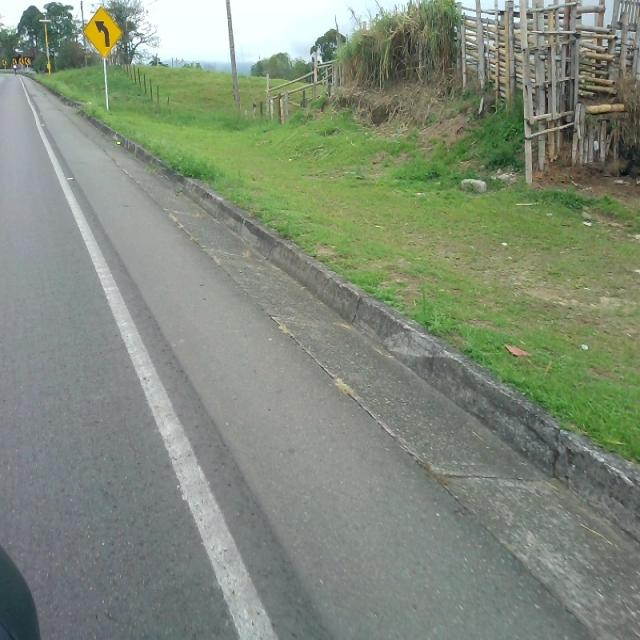DITCH: (33, 6, 638, 619), (9, 69, 638, 638)
